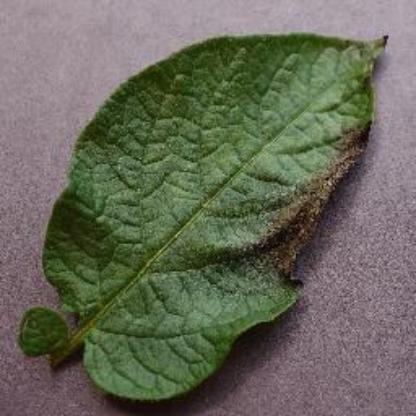Late-Blight: (24, 20, 404, 386)
